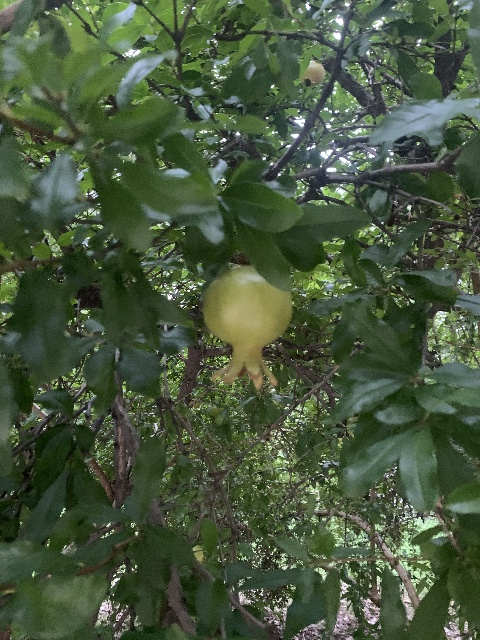mid-growth: (201, 265, 292, 390), (300, 61, 325, 88)
